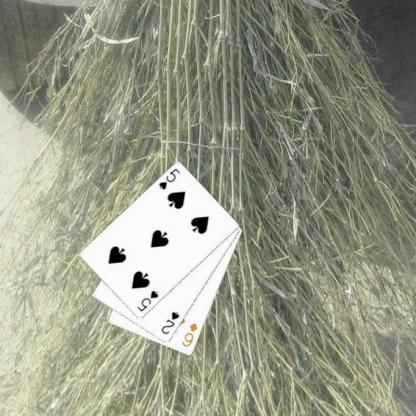2S: (158, 309, 180, 336)
5S: (134, 288, 160, 313), (156, 166, 181, 191)
6D: (179, 320, 199, 348)
